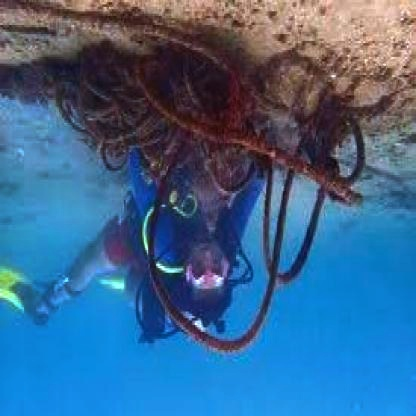net: (80, 27, 369, 357)
